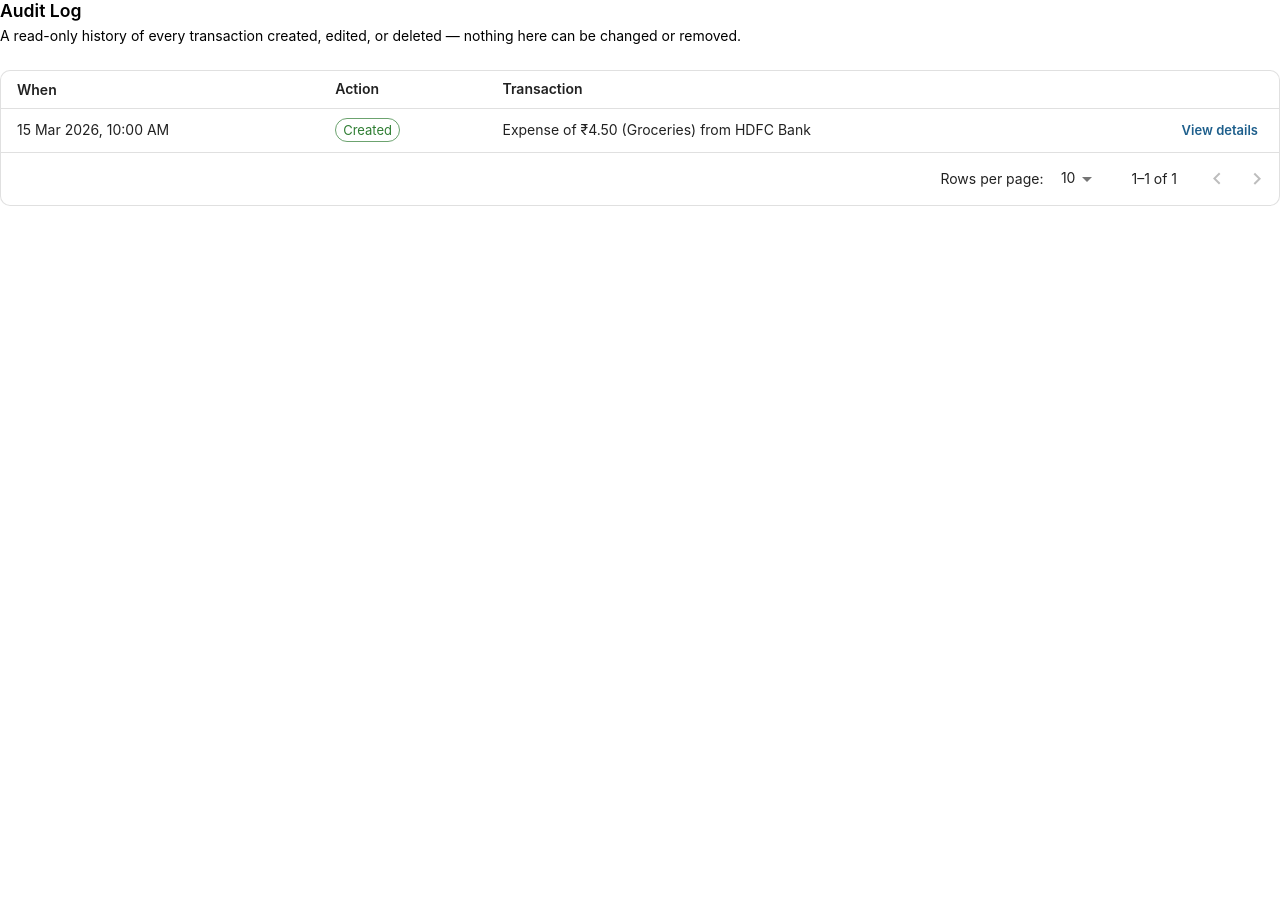
AuditLogPage › opens the details dialog for an entry when "View details" is clicked
Click the button "View details" at (1220, 130), box [1177,115,1263,146]
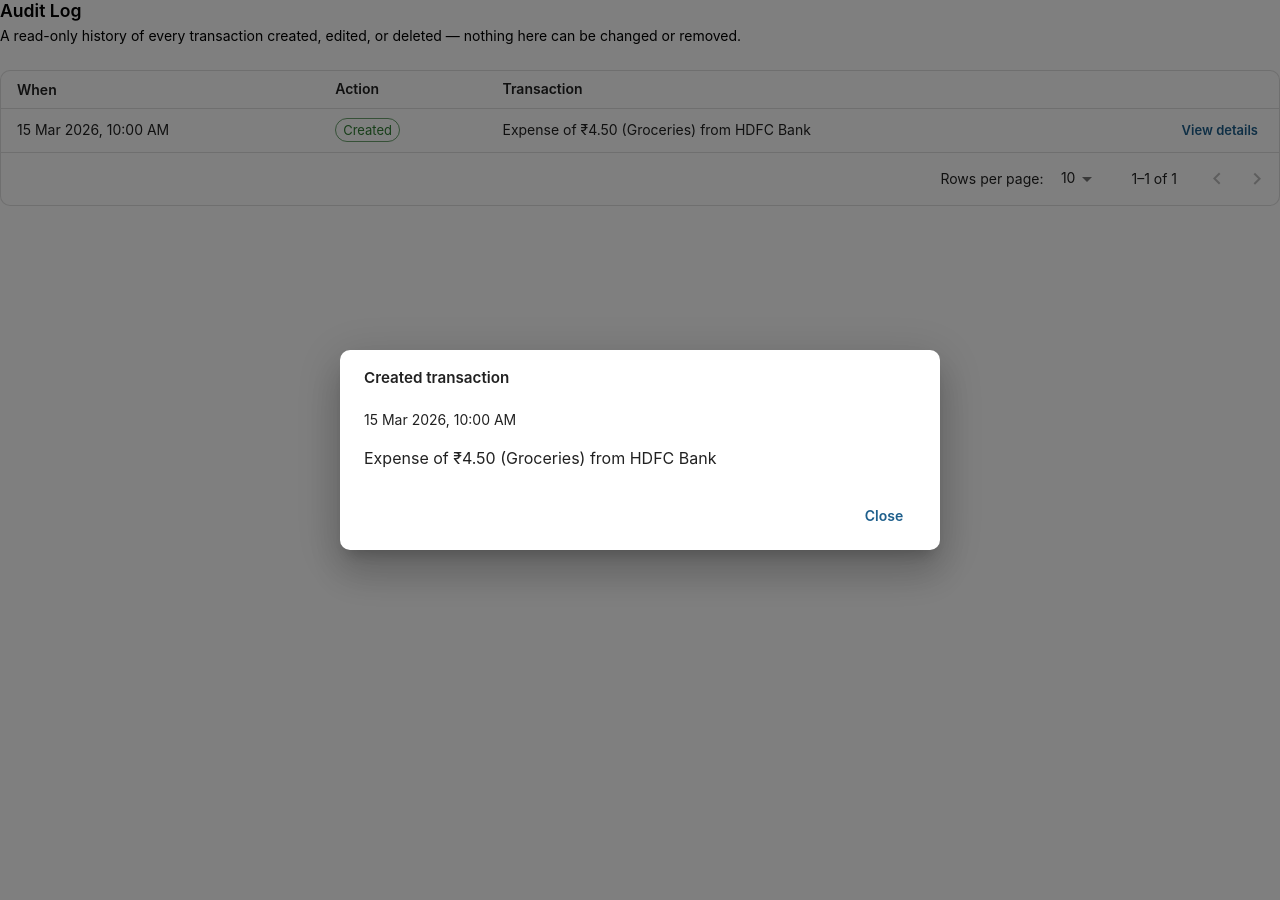
Check: the heading "Created transaction" is shown, box [364,368,509,387]
